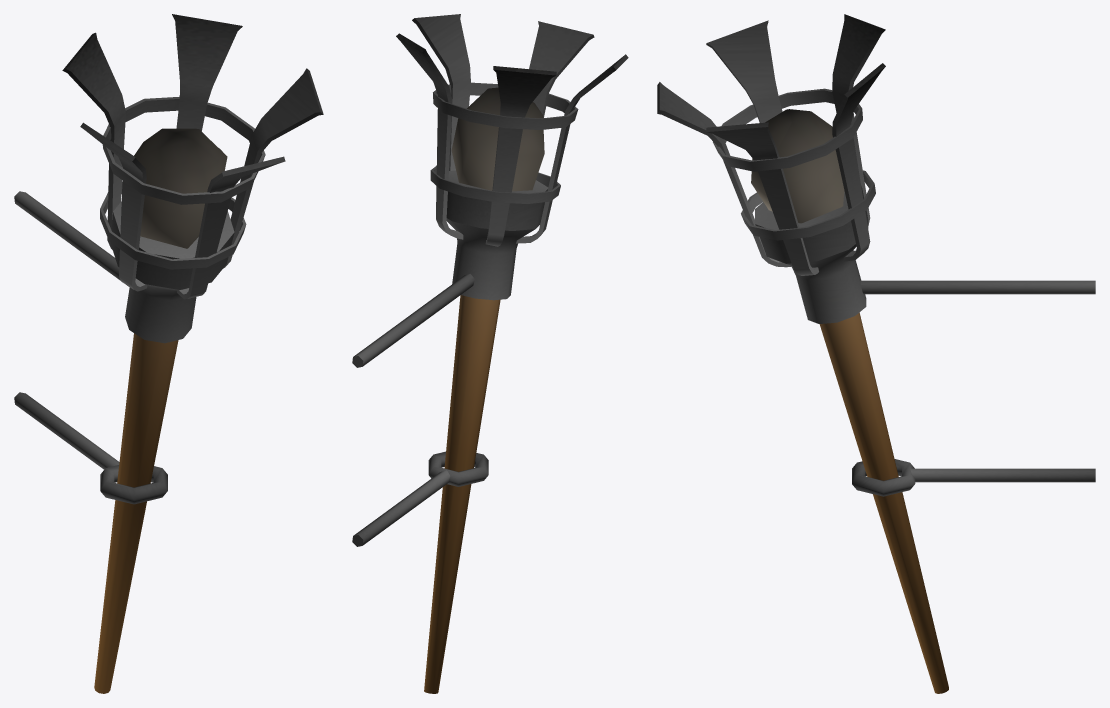
The model's file is WallTorch_gradient.fbx.
3 renders of one model, left to right at view 1: azimuth 30°, elevation 25°; view 2: azimuth 150°, elevation 25°; view 3: azimuth 270°, elevation 25°, orthographic. The views are drawn at different scales.
Parts seen in each view (by area): view 1: Torch; view 2: Torch; view 3: Torch.
Boxes of the visible parts, x1=… form: Torch: x1=14, y1=14, x2=323, y2=693; Torch: x1=352, y1=14, x2=628, y2=693; Torch: x1=657, y1=14, x2=1095, y2=693.
Bounding box in the file's own units: 20.48 × 58.86 × 36.2.
